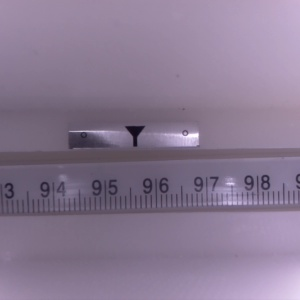3: (3, 183, 14, 198)
4: (55, 181, 65, 196)
5: (108, 179, 117, 195)
6: (158, 177, 169, 193)
7: (209, 177, 219, 191)
8: (260, 174, 269, 190)
9: (142, 177, 152, 193), (91, 179, 101, 195), (193, 177, 203, 192), (39, 183, 49, 198), (244, 176, 253, 190), (294, 173, 300, 189)
finger: (123, 126, 145, 149)
